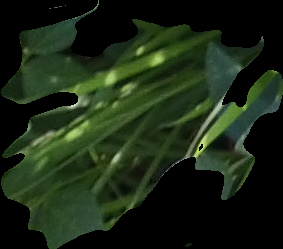grass: (1, 1, 282, 247)
